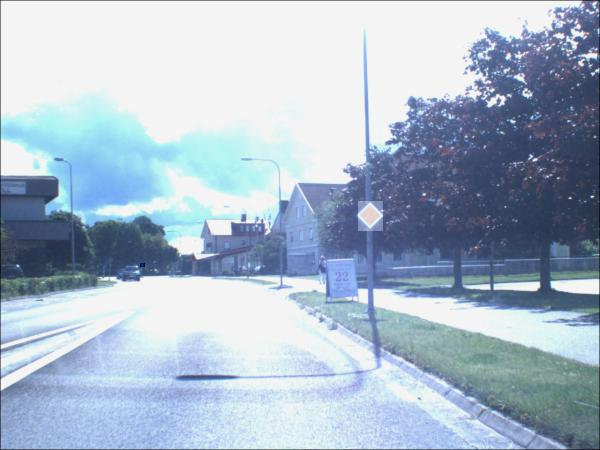PASS_RIGHT_SIDE: (141, 264, 147, 269)
PEDESTRIAN_CROSSING: (173, 262, 177, 266), (155, 263, 159, 267), (103, 263, 107, 267)
PRIORITY_ROAD: (359, 202, 385, 233)
